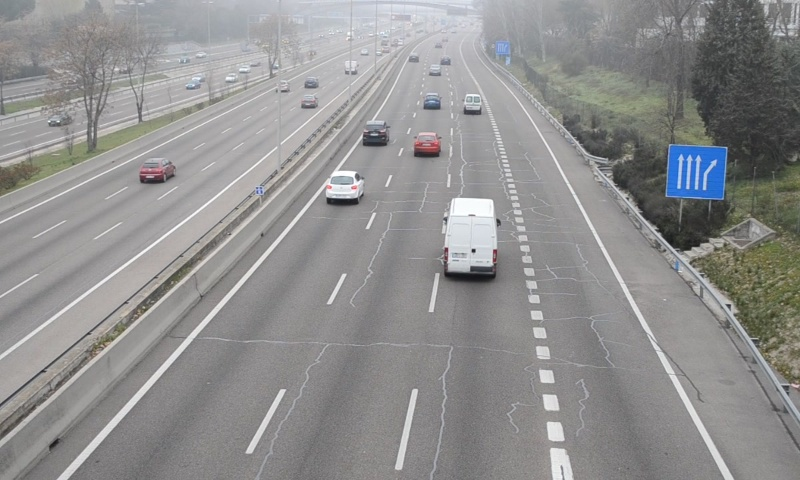car: (325, 170, 363, 201), (362, 119, 389, 144), (414, 132, 439, 157), (422, 92, 441, 110)
van: (444, 198, 498, 276), (462, 92, 483, 116)
